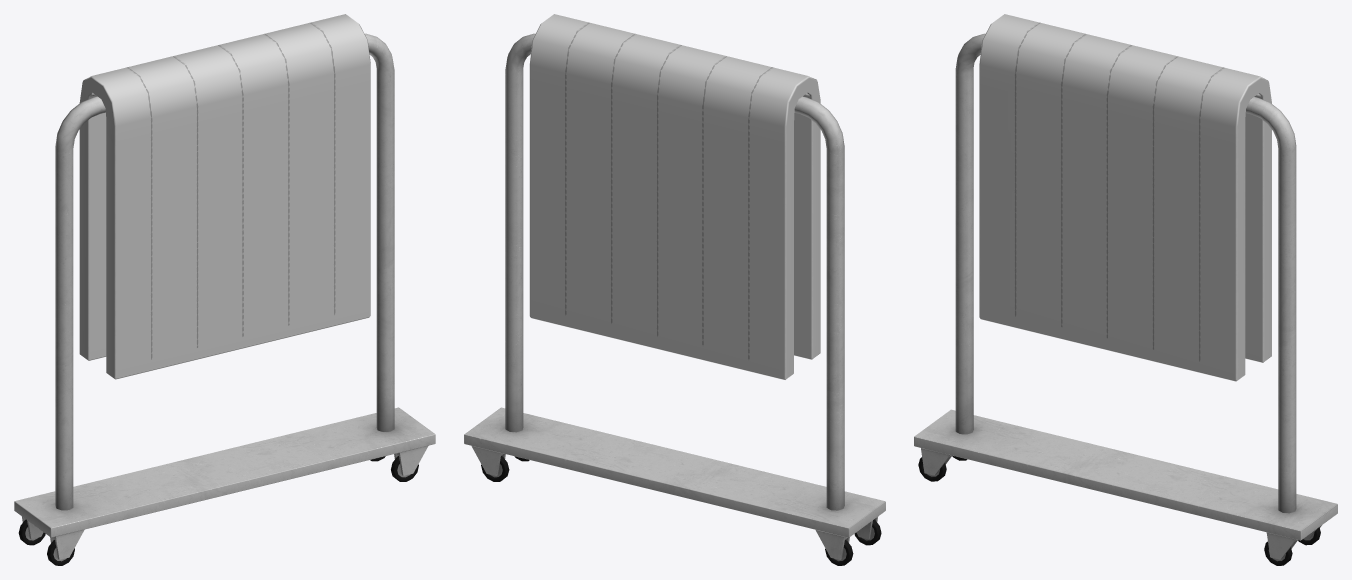
The model's file is MattressStorage.FBX.
3 renders of one model, left to right at view 1: azimuth 30°, elevation 25°; view 2: azimuth 150°, elevation 25°; view 3: azimuth 330°, elevation 25°, orthographic.
Visible parts, largest first — view 1: MattressStorage; view 2: MattressStorage; view 3: MattressStorage.
Boxes of the visible parts, x1,y1,x2,y2 form: MattressStorage: [14, 14, 435, 565]; MattressStorage: [464, 14, 885, 565]; MattressStorage: [914, 14, 1337, 565].
Size of the model in its own units: 120 by 137 by 20.
